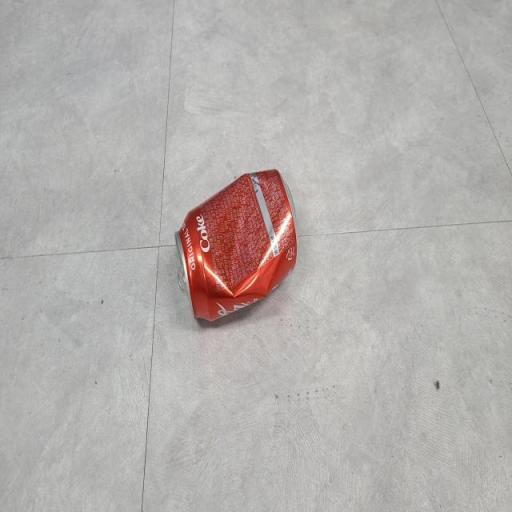metal: (163, 151, 314, 337)
